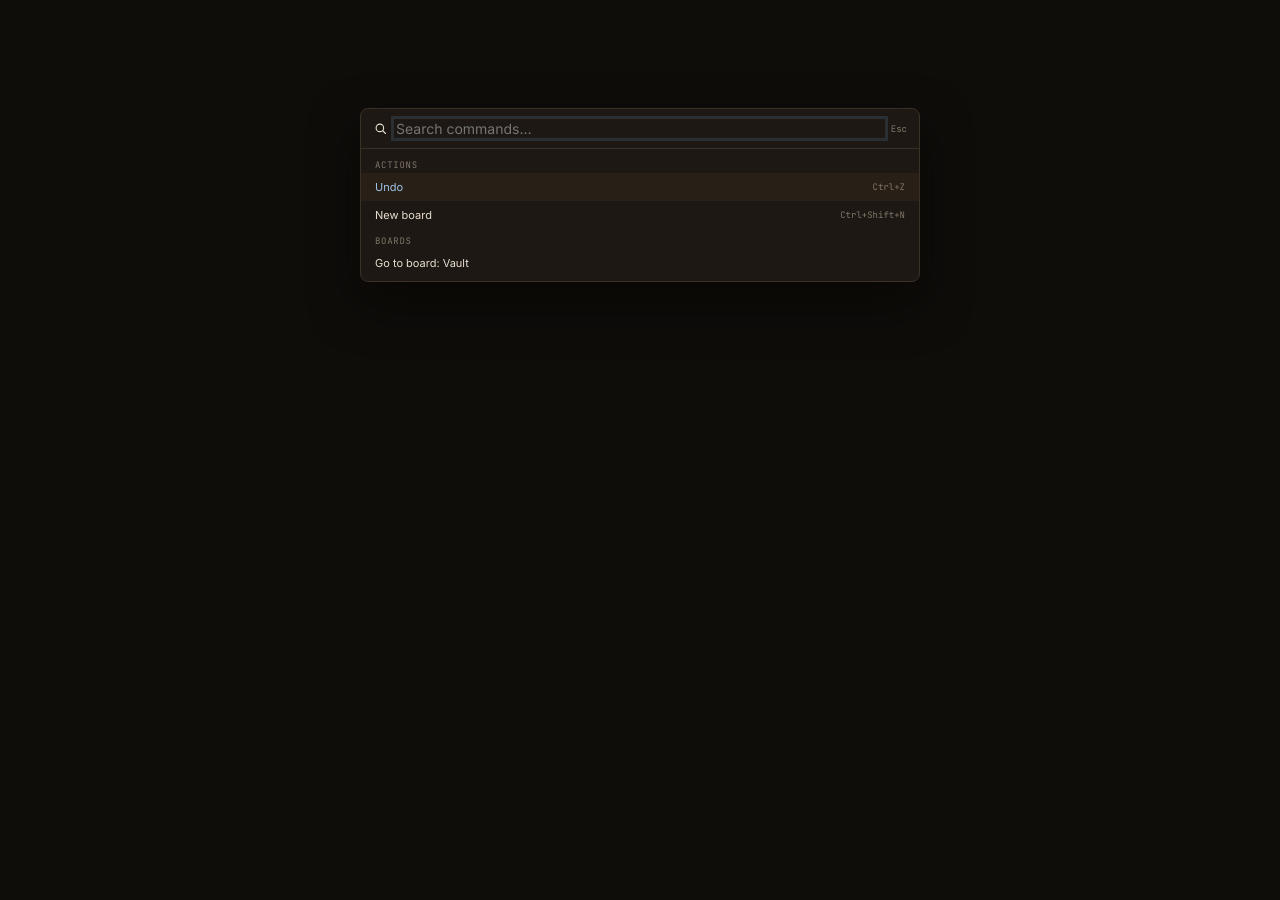
Test: CommandPalette › filters as the query is typed
Type "undo" into the dropdown. click: (639, 128)
box: [394,119,885,138]
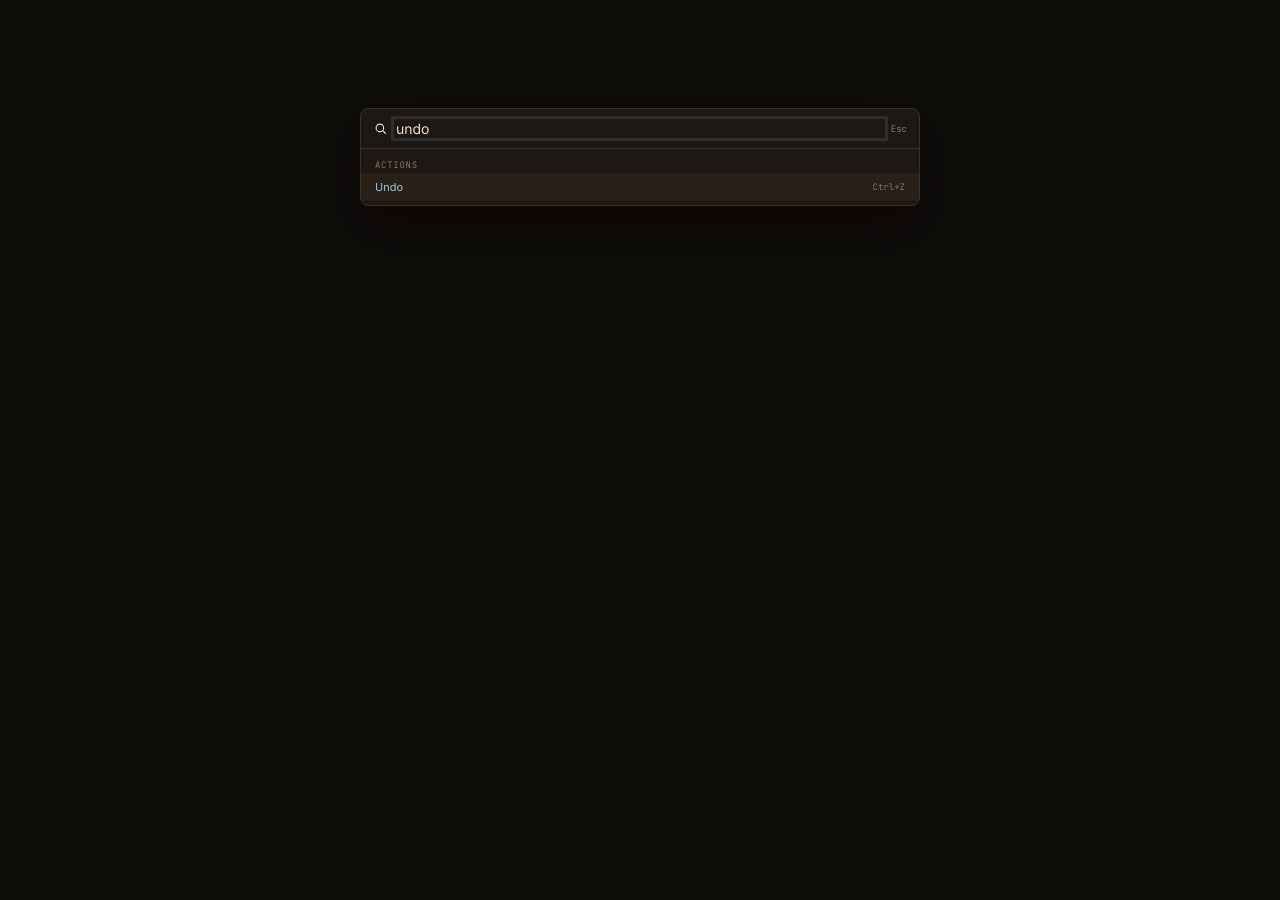
Check: the text "Undo" is shown, box [375,180,403,194]
Check: the option "Go to board: Vault" is gone
